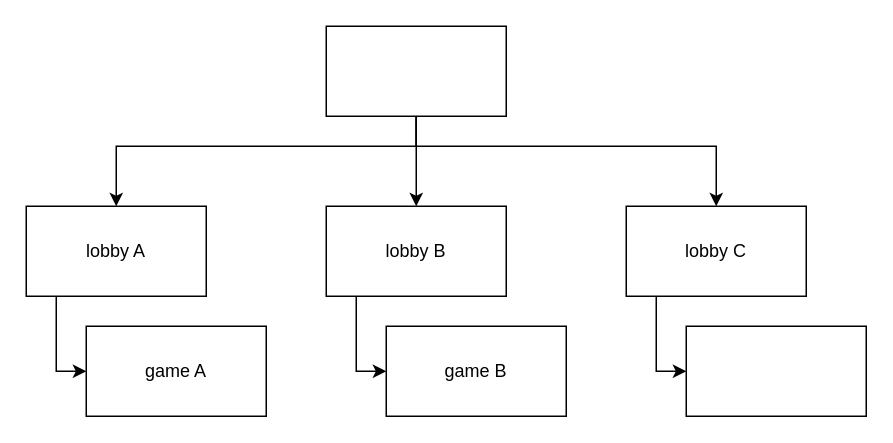
Image size: 893x443. Some labels were removed from this diagram. Here are the shapes that lost their labels. From the top down, the centre of each, then its label:
the point at 415,70: server hub
the point at 775,370: game C
